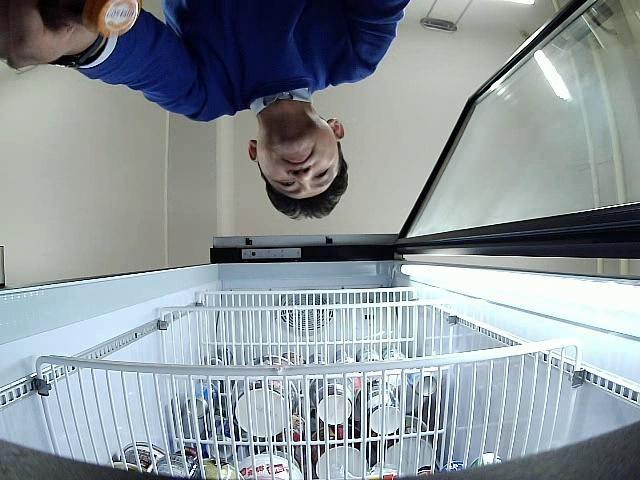17_vita500: (41, 1, 140, 36)
